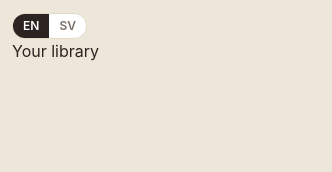
it: LanguageSwitcher › persists the chosen language across a remount
The width and height of the screenshot is (332, 172).
Later steps or results of the test are not shown.
Click the button "SV": x=68, y=26 [49, 14, 86, 38]
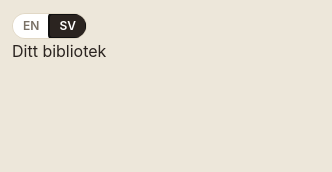
Result: the heading "Ditt bibliotek" is shown at [12, 41, 106, 61]
